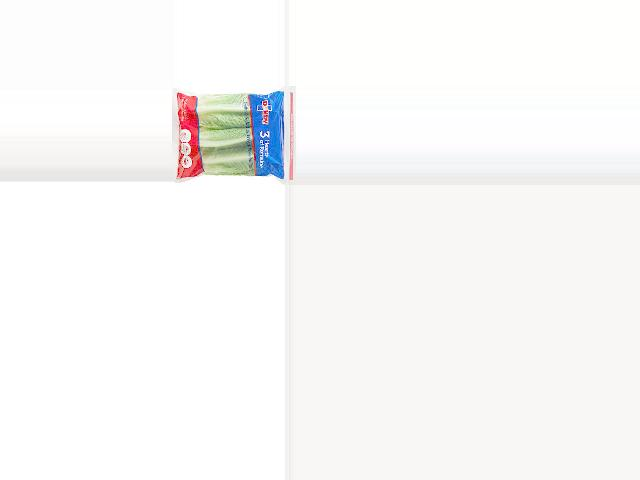lettuce: (172, 86, 289, 180)
